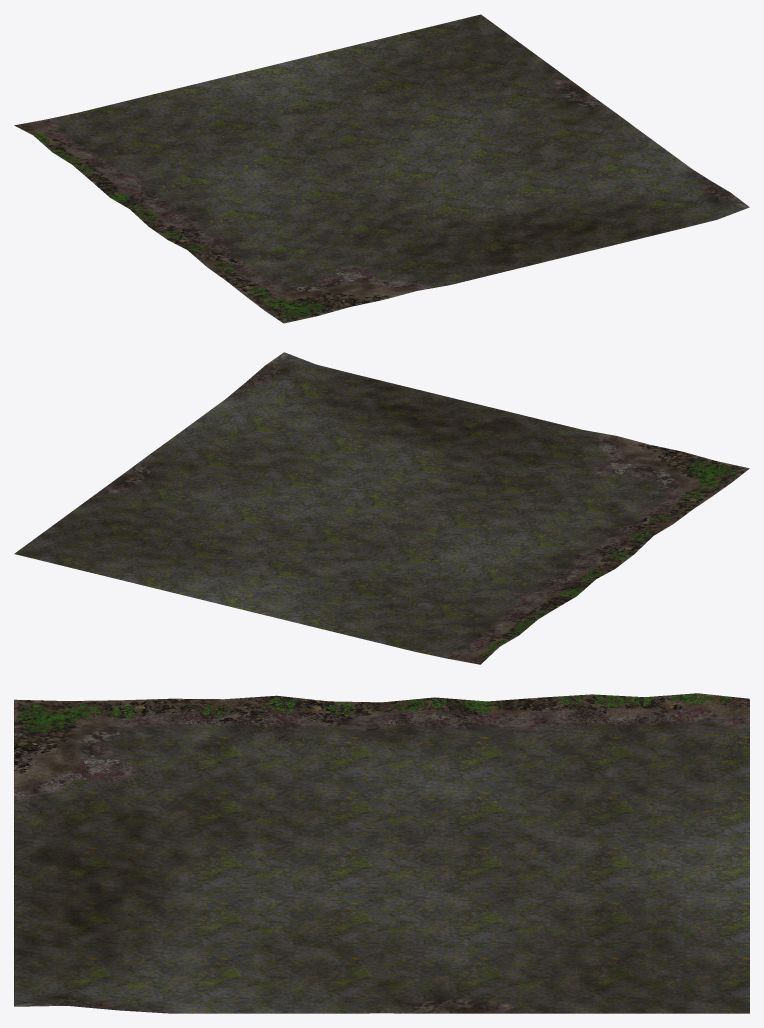
Rendered from terrain3.glb.
3 renders of one model, top to bottom at view 1: azimuth 30°, elevation 25°; view 2: azimuth 150°, elevation 25°; view 3: azimuth 270°, elevation 25°, orthographic. The views are drawn at different scales.
Parts seen in each view (by area): view 1: Terrain.003; view 2: Terrain.003; view 3: Terrain.003.
Part boxes in pixels (x1,y1,x2,y2): Terrain.003: (14,14,749,323); Terrain.003: (14,352,749,664); Terrain.003: (14,693,749,1013).
Bounding box in the file's own units: 44.06 × 0.6323 × 44.07.
1 material, 1 textured.
